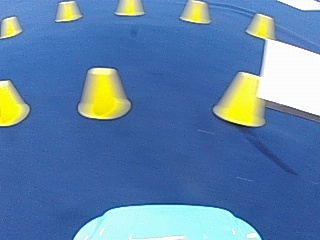cone: (213, 70, 265, 126), (78, 66, 129, 120), (0, 79, 29, 125), (245, 13, 274, 39), (180, 0, 210, 23), (55, 0, 80, 22), (1, 16, 22, 38), (115, 0, 143, 15)
